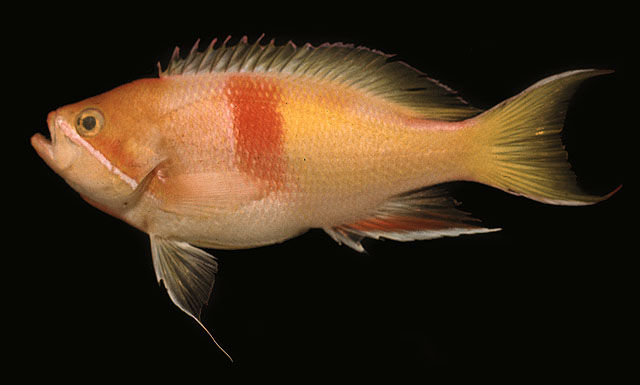fish: (30, 33, 622, 363)
